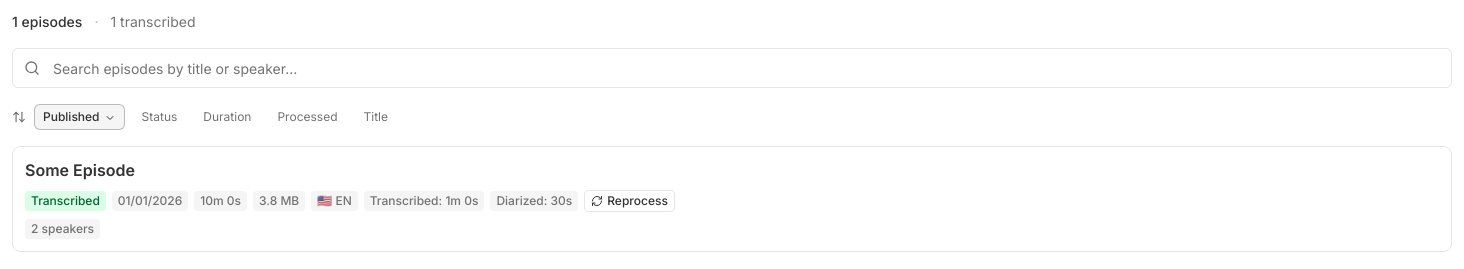
Test case: EpisodesList — search filter › renders 'no episodes match' empty state for non-matching query
Type "xyz nothing matches" into the field labelled "Search episodes by title or speaker..." at (732, 68), box [12, 48, 1452, 88]
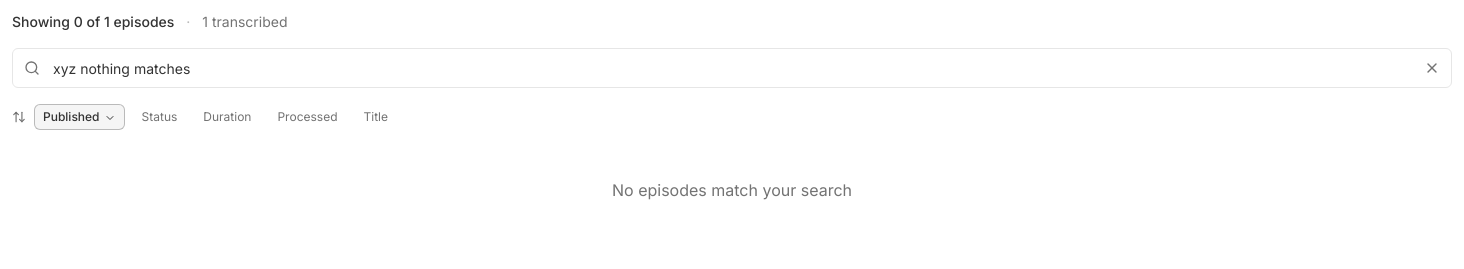
Check: the text "No episodes match your search" is shown, box [612, 180, 852, 200]
